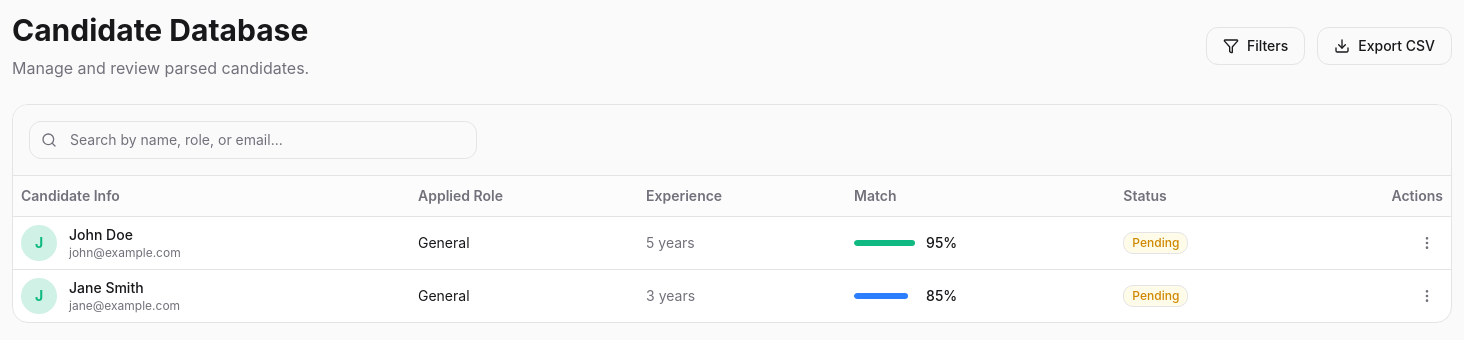
Test case: Candidates Page › handles error state on load
The width and height of the screenshot is (1464, 340).
Step 1. Type "error" into the field with placeholder "Search by name, role, or email..." → (253, 140), box left=29, top=121, right=477, bottom=159
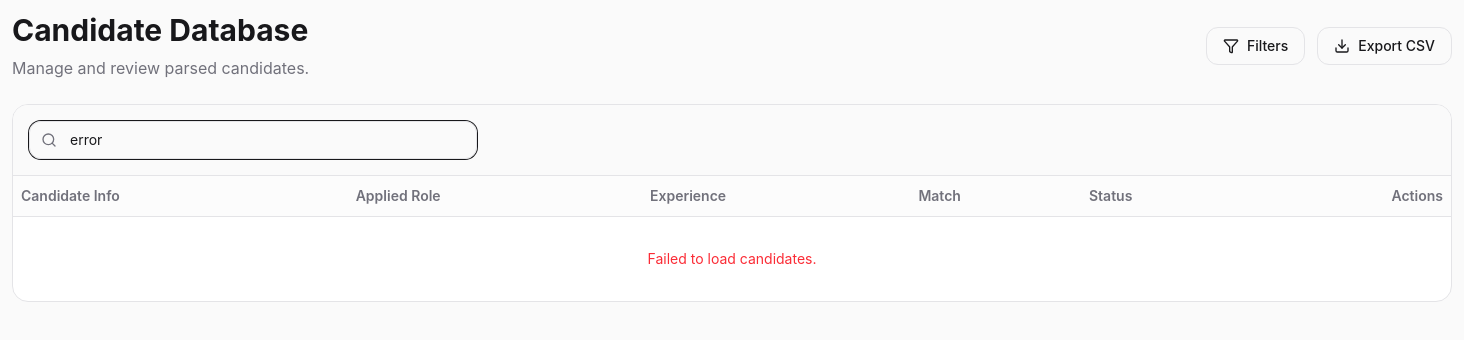
Now the text "Failed to load candidates." is shown, box left=13, top=216, right=1451, bottom=300
